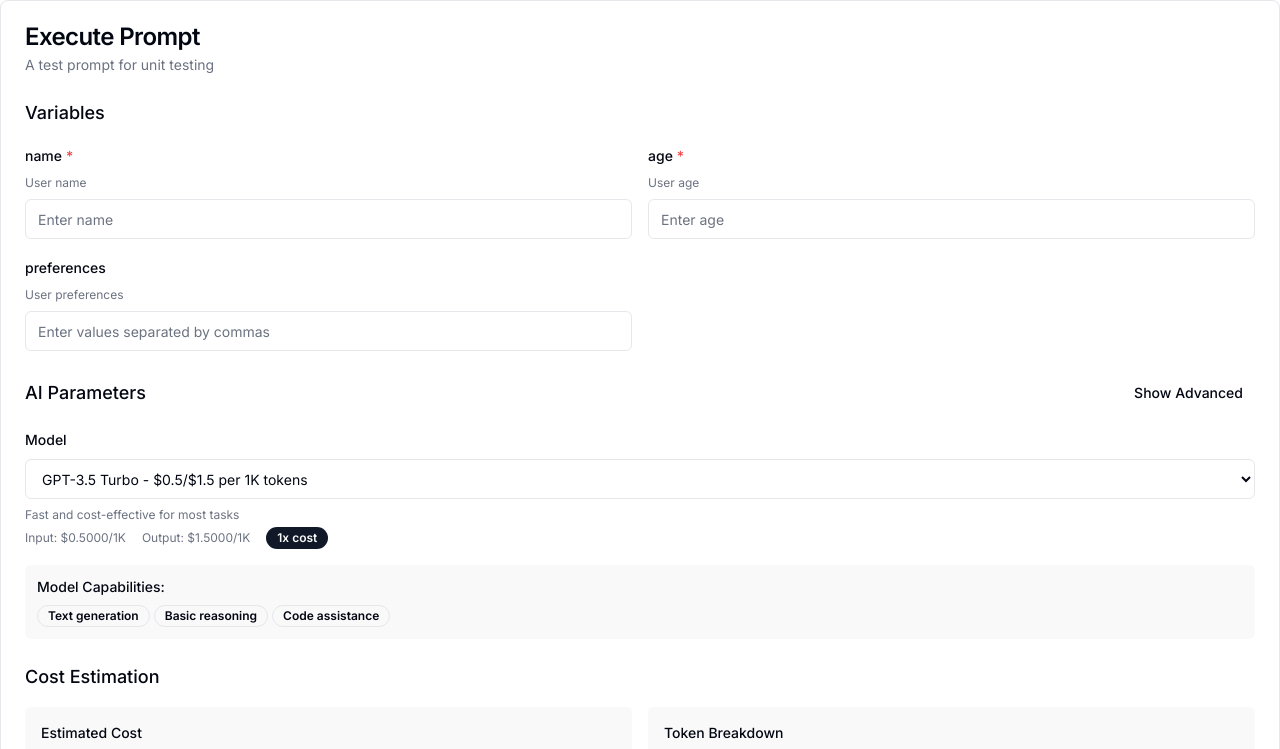
Test: EnhancedExecutionPanel › Form Validation › validates required string inputs
Clear a required field after typing something to trigger validation
Step 1. Type "test" into the field labelled "name*" → (328, 219), box x1=25 y1=199 x2=632 y2=239
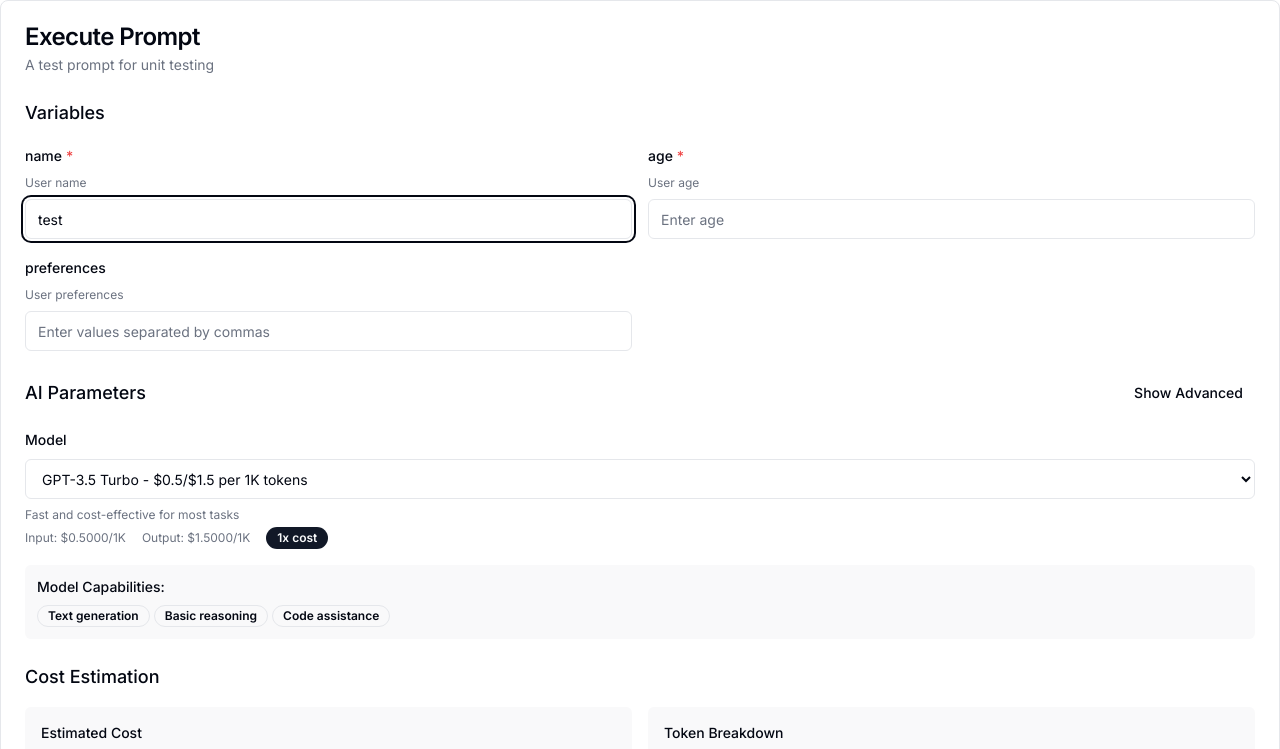
Step 2. Clear the field labelled "name*" → (328, 219), box x1=25 y1=199 x2=632 y2=239
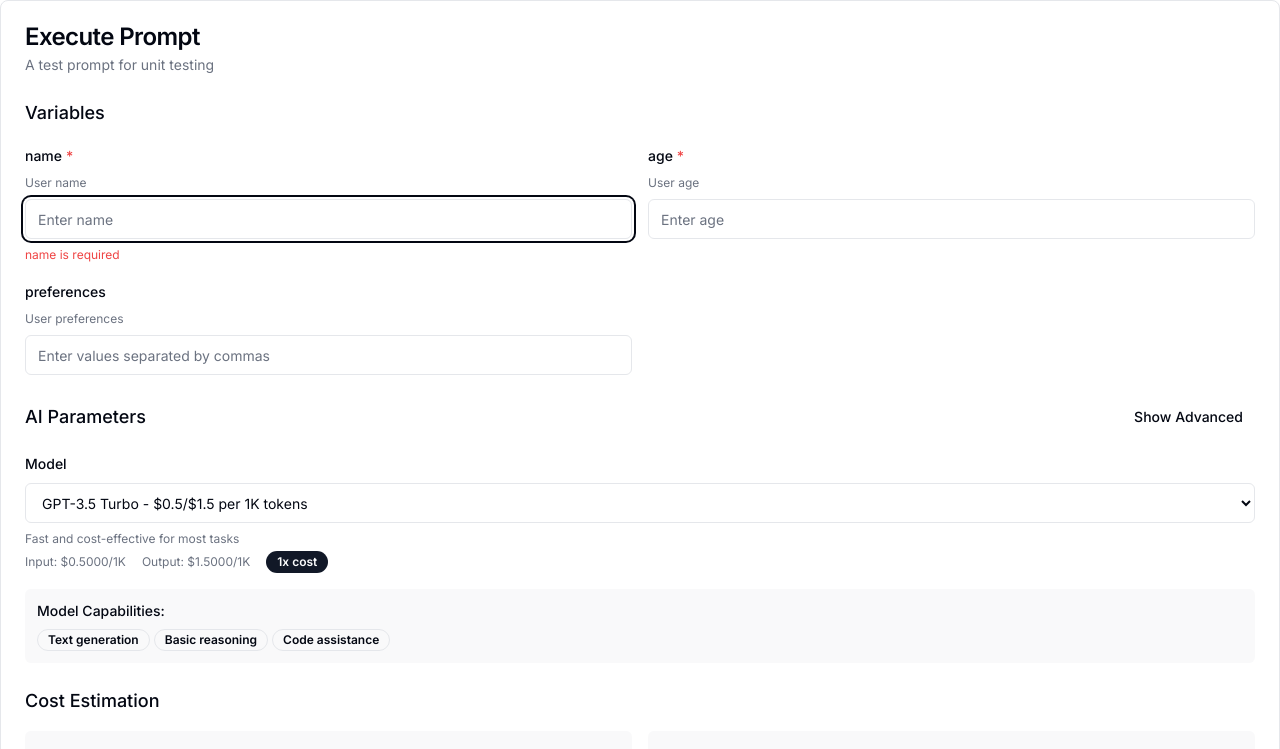
Now the text "name is required" is shown, box x1=25 y1=247 x2=120 y2=262
